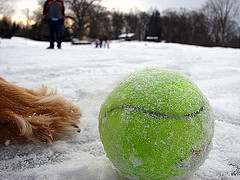tennis ball: (97, 66, 217, 180)
